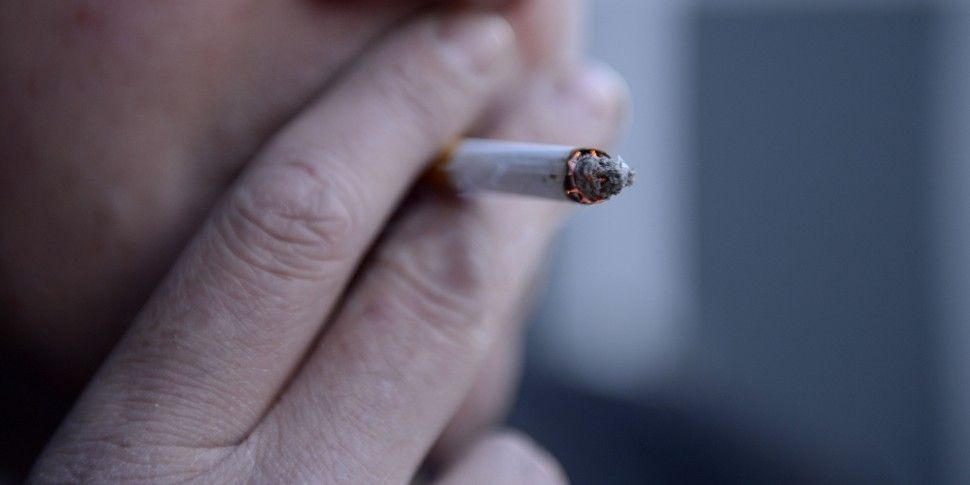sigaretta: (399, 125, 629, 213)
